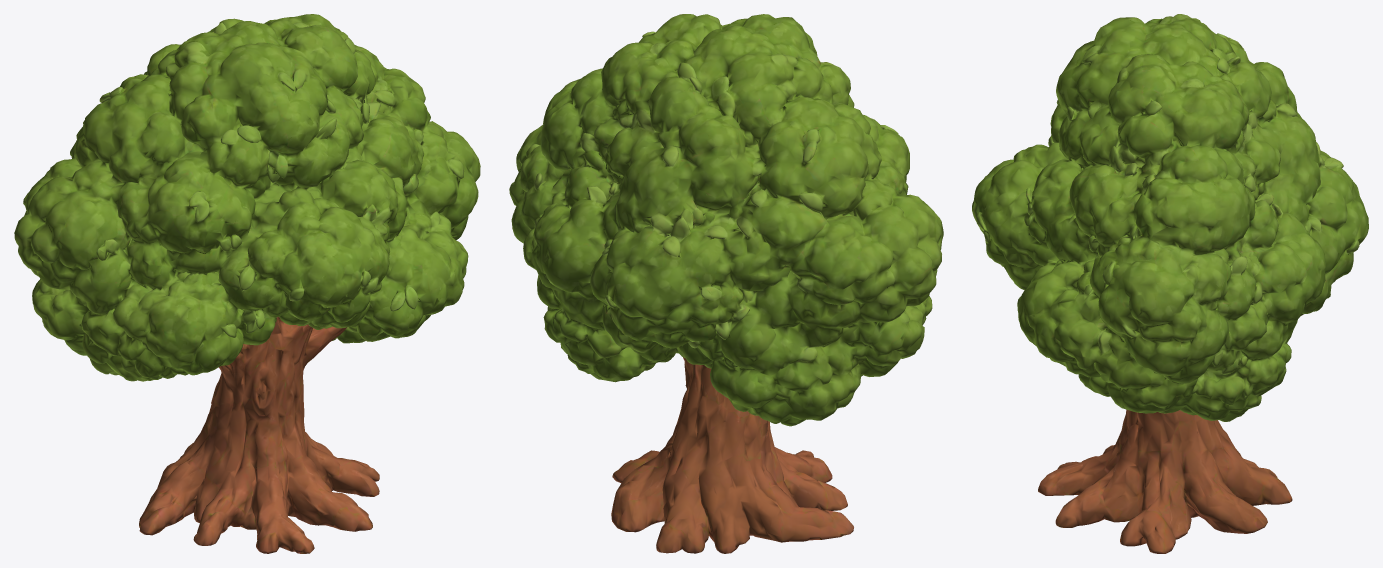
File: tree-large.glb
3 views of the same model, side by side, from view 1: azimuth 30°, elevation 25°; view 2: azimuth 150°, elevation 25°; view 3: azimuth 270°, elevation 25° (orthographic). The views are drawn at different scales.
Size of the model in its own units: 1.8 by 1.9 by 1.47.
1 material, 1 textured.
